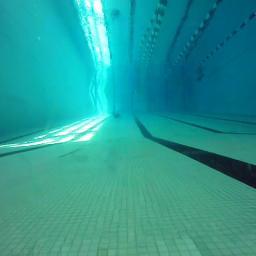Full: (113, 113, 120, 118)
